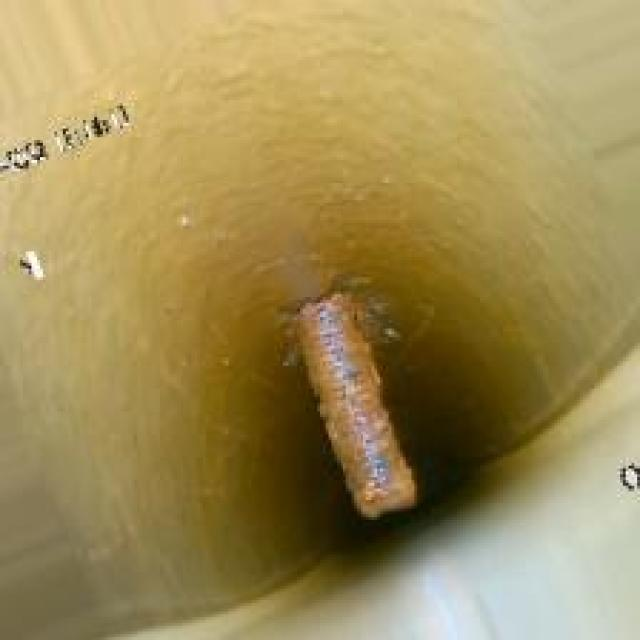ferrule: (280, 286, 423, 517)
